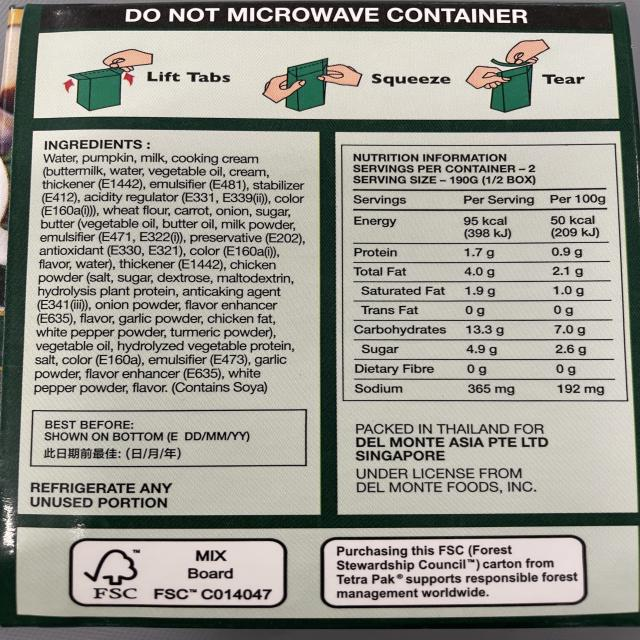object_name: (31, 0, 640, 627)
